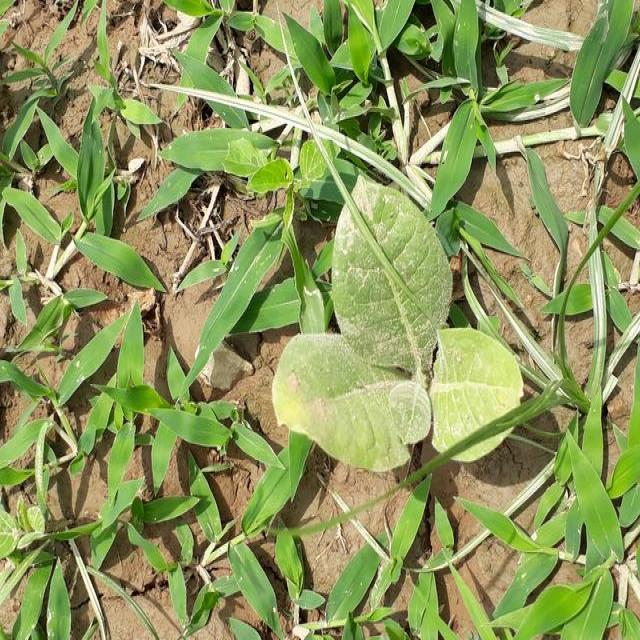crop: (269, 176, 529, 478)
